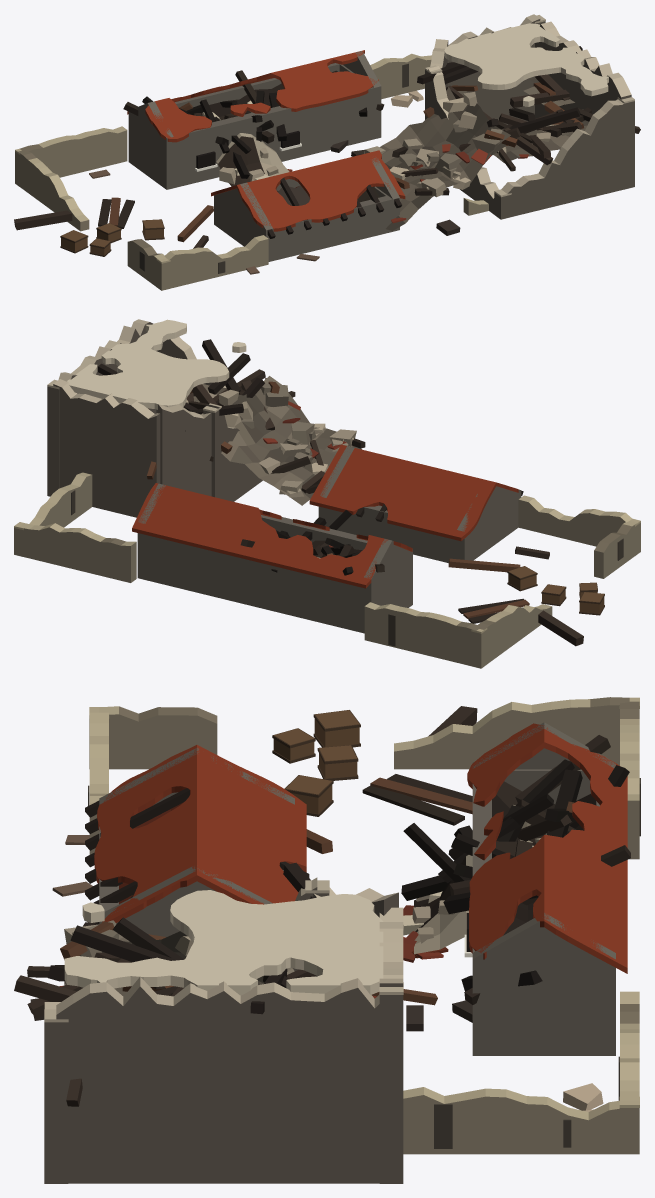
Rendered from VerBuild06a.glb.
The picture shows the model from 3 angles, top to bottom: view 1: azimuth 30°, elevation 25°; view 2: azimuth 150°, elevation 25°; view 3: azimuth 270°, elevation 25°; orthographic projection. The views are drawn at different scales.
Visible parts, largest first — view 1: VerBuild06a_flat; view 2: VerBuild06a_flat; view 3: VerBuild06a_flat.
Boxes of the visible parts, left/top/right/bottom form: VerBuild06a_flat: left=14, top=14, right=640, bottom=290; VerBuild06a_flat: left=14, top=319, right=640, bottom=668; VerBuild06a_flat: left=14, top=697, right=640, bottom=1183.
Size of the model in its own units: 17.74 by 3.46 by 9.85.
